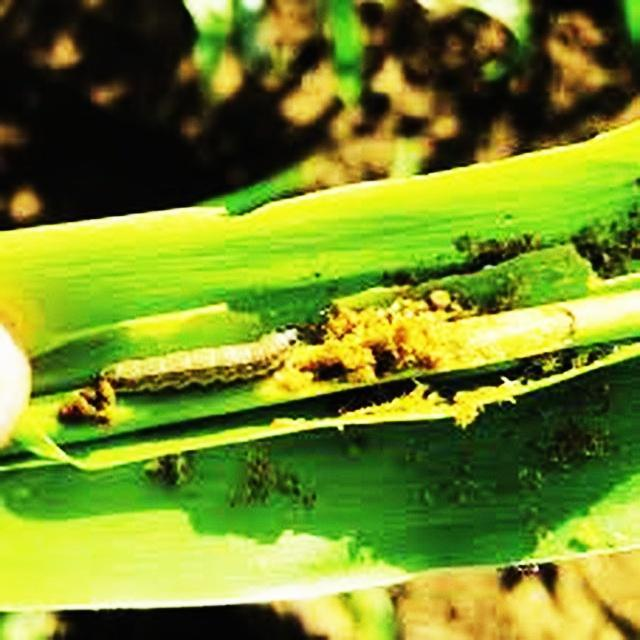Plaga: (88, 325, 301, 399)
